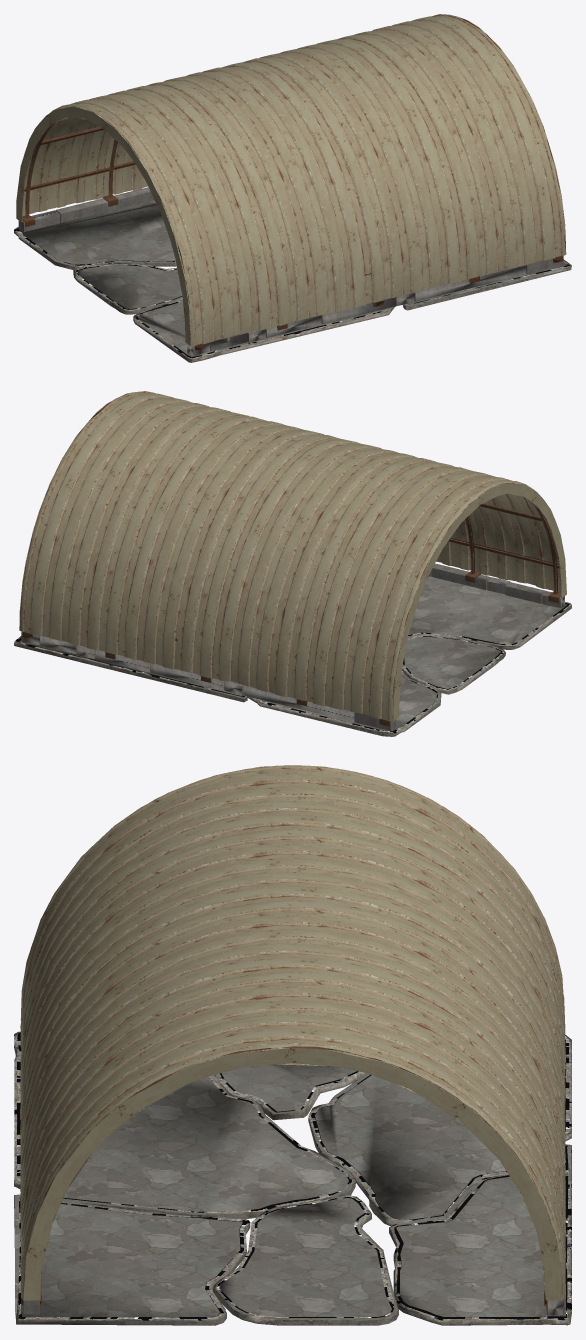
File: military_hangar_1350x1100.glb
3 renders of one model, top to bottom at view 1: azimuth 30°, elevation 25°; view 2: azimuth 150°, elevation 25°; view 3: azimuth 270°, elevation 25°, orthographic. The views are drawn at different scales.
Visible parts, largest first — view 1: military_hangar_1350x1100_LOD0; view 2: military_hangar_1350x1100_LOD0; view 3: military_hangar_1350x1100_LOD0.
Boxes of the visible parts, x1,y1,x2,y2 form: military_hangar_1350x1100_LOD0: (14,14,571,362); military_hangar_1350x1100_LOD0: (14,391,571,736); military_hangar_1350x1100_LOD0: (14,765,571,1325).
Bounding box in the file's own units: 13.48 × 6.02 × 10.98.
Materials: 5 (5 with a texture image).
